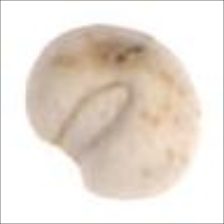L5: (47, 78, 145, 165), (117, 24, 184, 66)
L6: (22, 21, 206, 204)
